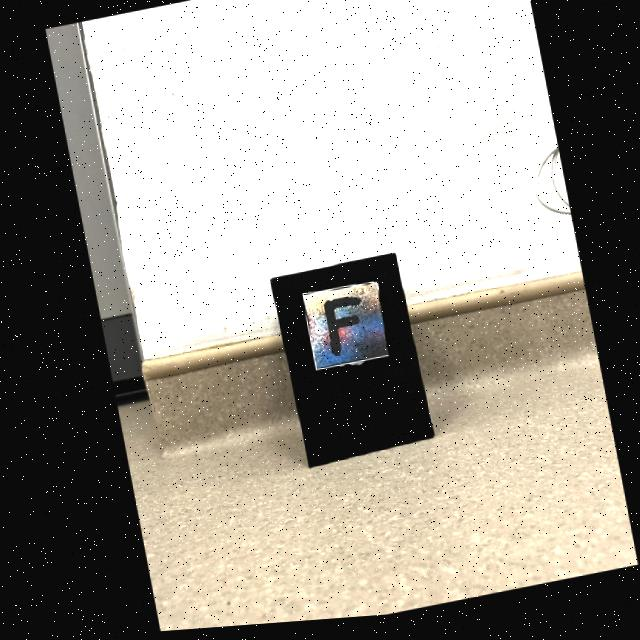F: (320, 302, 356, 360)
